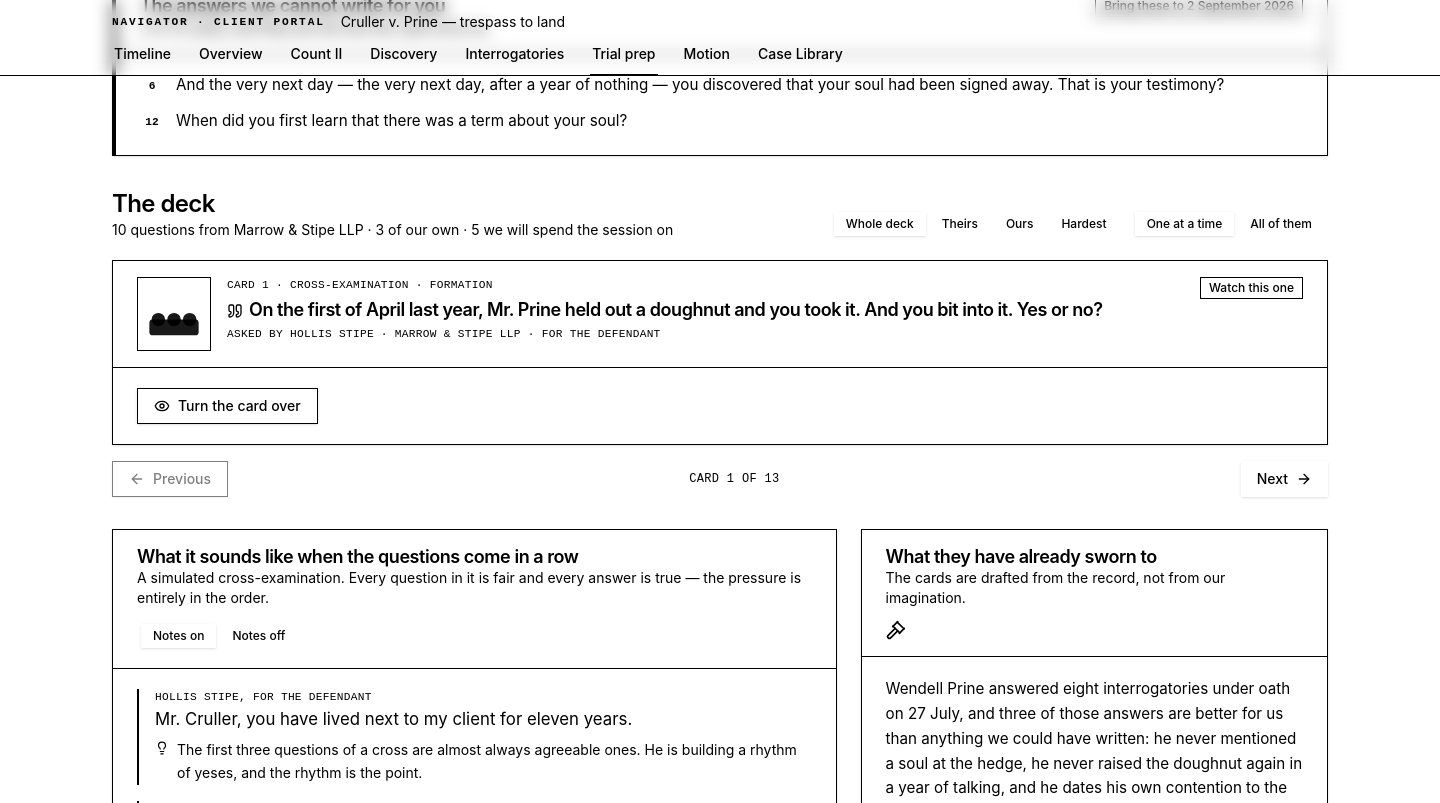
Test case: the trial preparation page › shows the answer, the reasoning, and the weaker answer once it is turned over
(page scrolled)
Click the button "Turn the card over" at (227, 406), box [137,388,318,424]
(page scrolled)
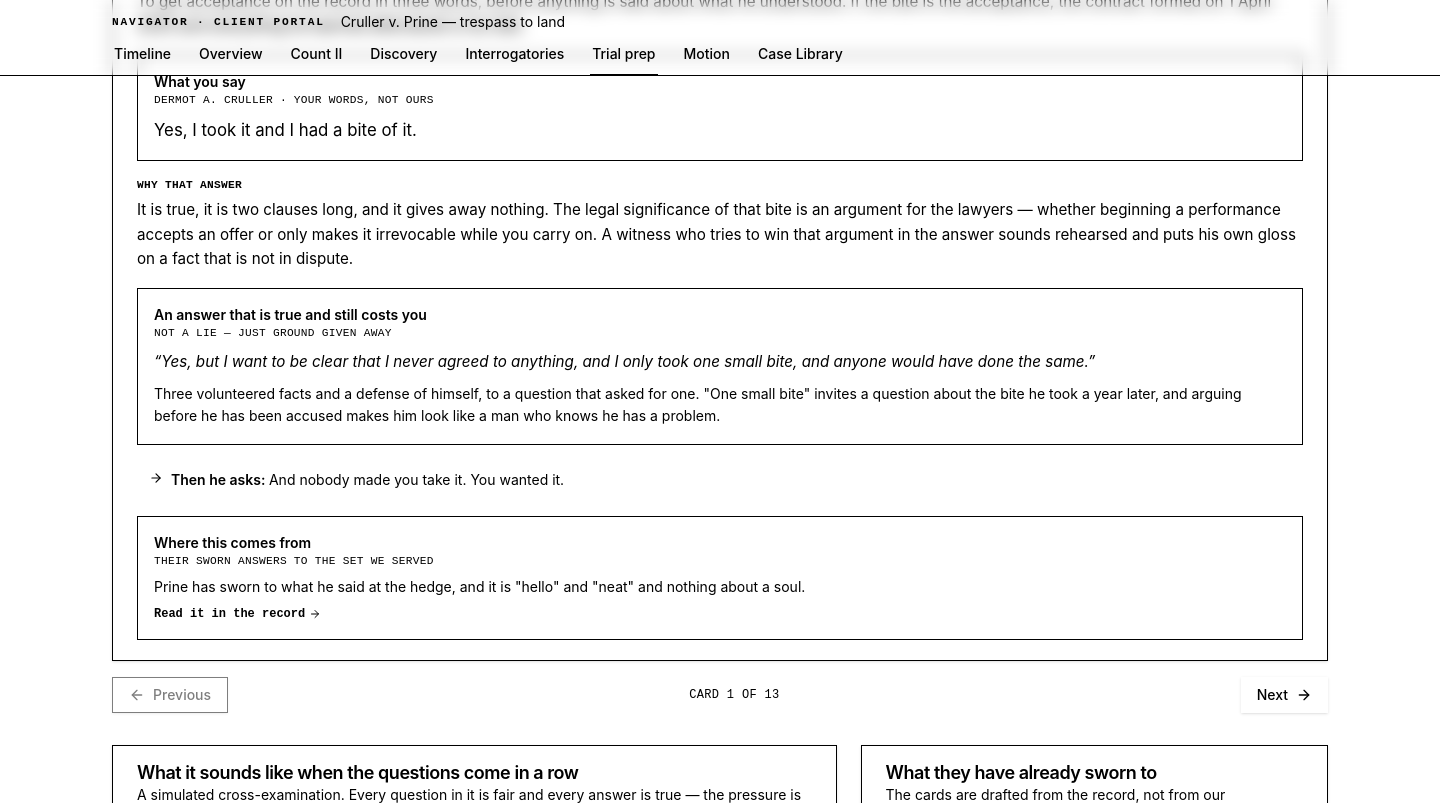
Result: the text "Yes, I took it and I had a bite of it." is shown at [154,120,417,140]
Result: the text "It is true, it is two clauses long, and it gives away nothing. The legal significance of that bite is an argument for th" is shown at [137,200,1296,268]
Result: the text "Three volunteered facts and a defense of himself, to a question that asked for one. \"One small bite\" invites a question " is shown at [154,385,1242,424]
